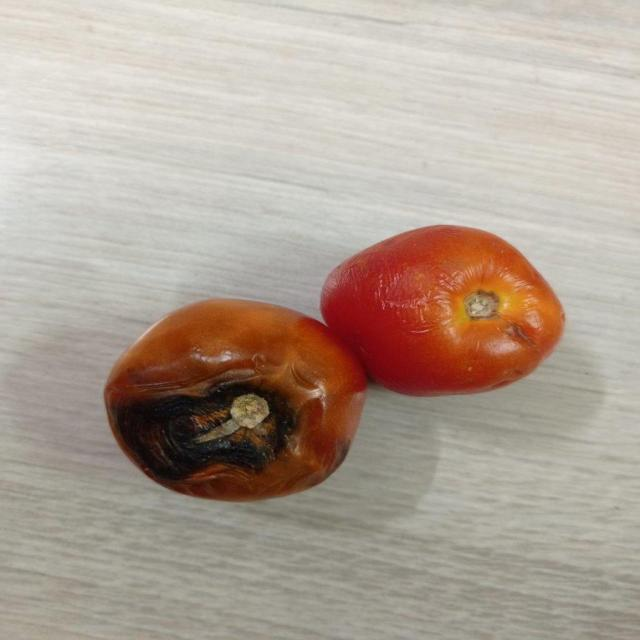Rotten: (104, 299, 366, 499)
overripe: (320, 222, 570, 397)
